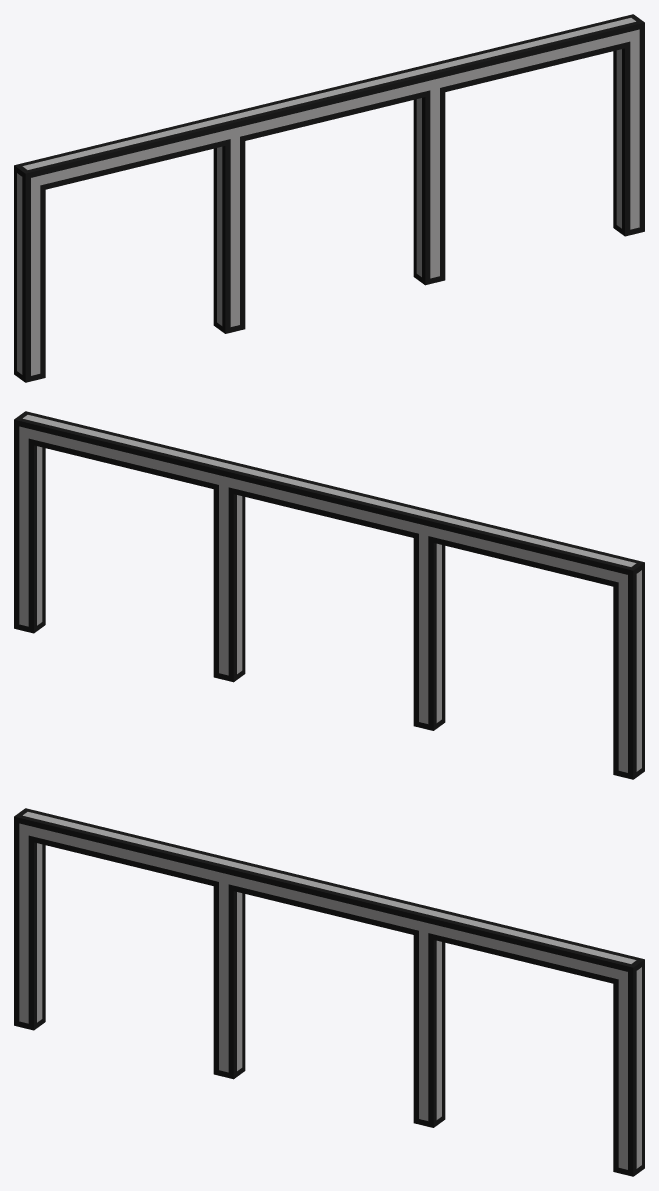
The model's file is Long Railing.fbx.
3 renders of one model, top to bottom at view 1: azimuth 30°, elevation 25°; view 2: azimuth 150°, elevation 25°; view 3: azimuth 330°, elevation 25°, orthographic.
Visible parts, largest first — view 1: Long Railing; view 2: Long Railing; view 3: Long Railing.
Boxes of the visible parts, bbox=[...] form: Long Railing: bbox=[14, 14, 644, 382]; Long Railing: bbox=[14, 411, 644, 779]; Long Railing: bbox=[14, 808, 644, 1176].
Bounding box in the file's own units: 0.1 × 3.1 × 1.
